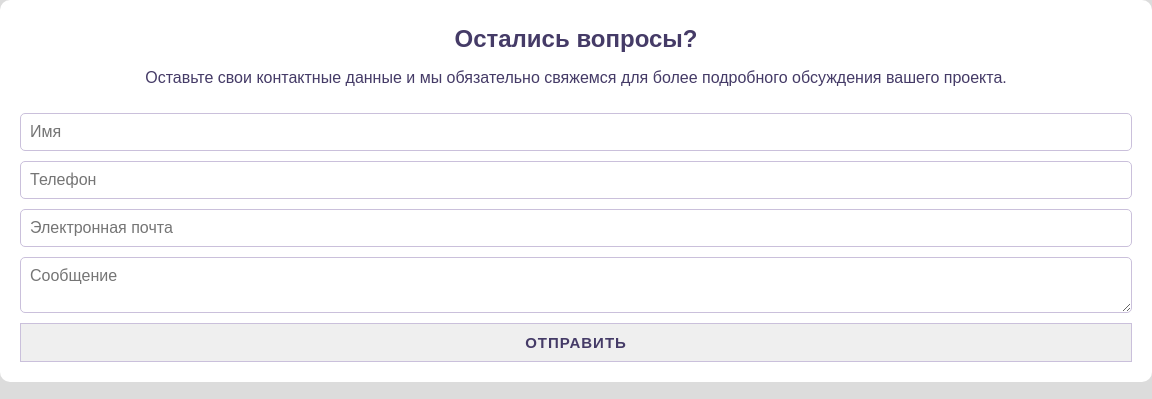
Test case: Contacts Page Form › Submitting form states ui › success › success text
Type "sastesthasergeev1@gmail.com" into the field named "email" at (576, 228), box [20, 209, 1132, 247]
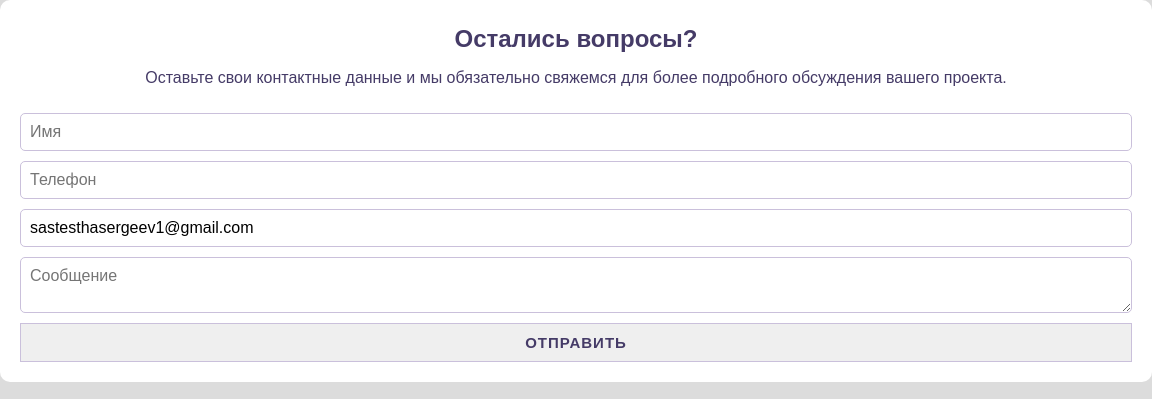
Type "testing on error" into the text box named "message" at (576, 285), box [20, 257, 1132, 313]
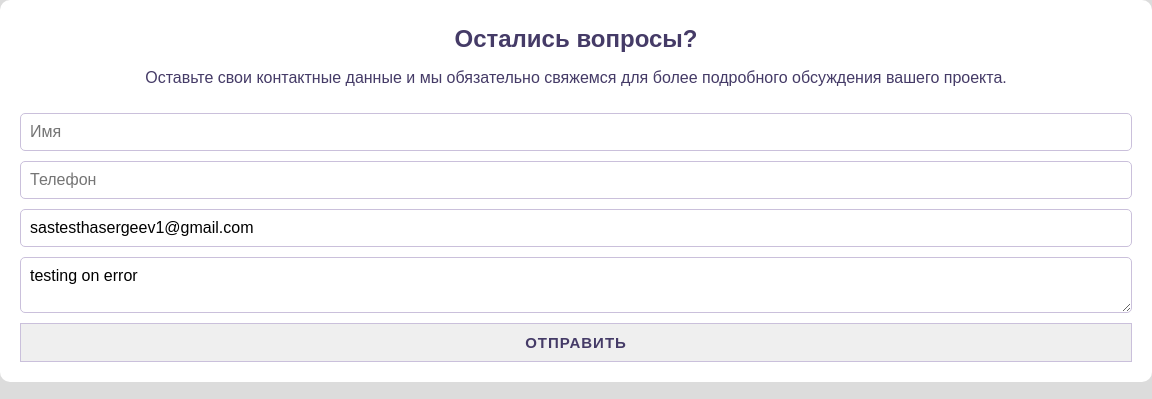
Type "89112354897" into the field named "phone" at (576, 180), box [20, 161, 1132, 199]
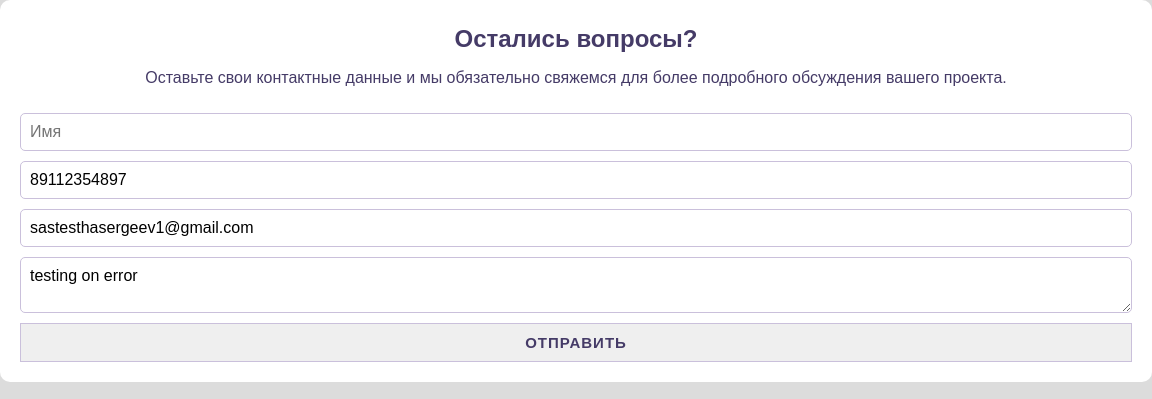
Type "SaSha" into the field named "name" at (576, 132), box [20, 113, 1132, 151]
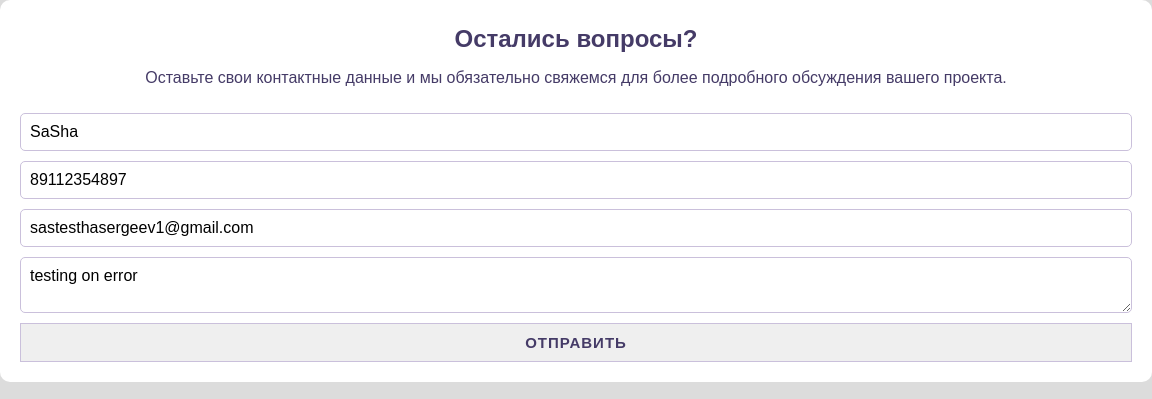
Click the button "ОТПРАВИТЬ" at (576, 342), box [20, 323, 1132, 362]
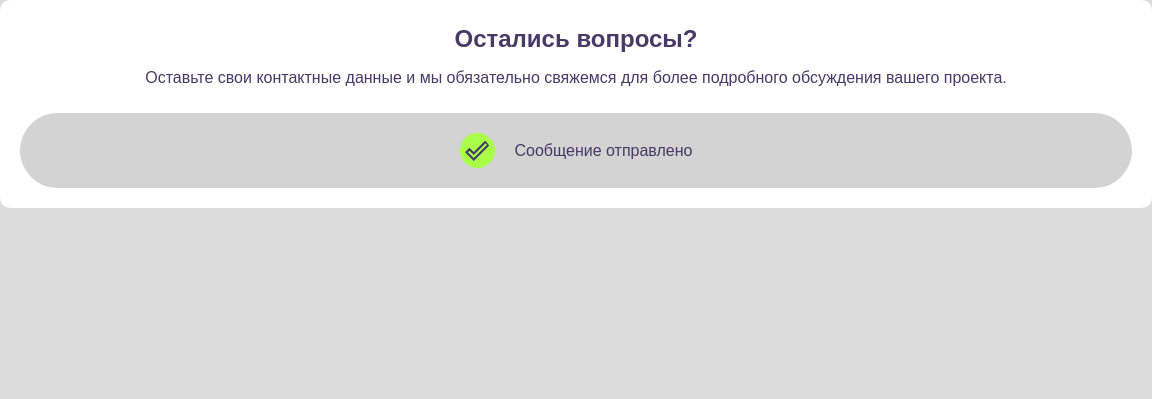
Expected: the text "Сообщение отправлено" is shown, [20, 113, 1132, 188]
